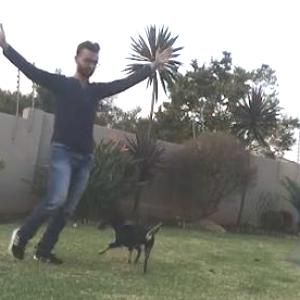takeoff: (0, 19, 154, 245)
